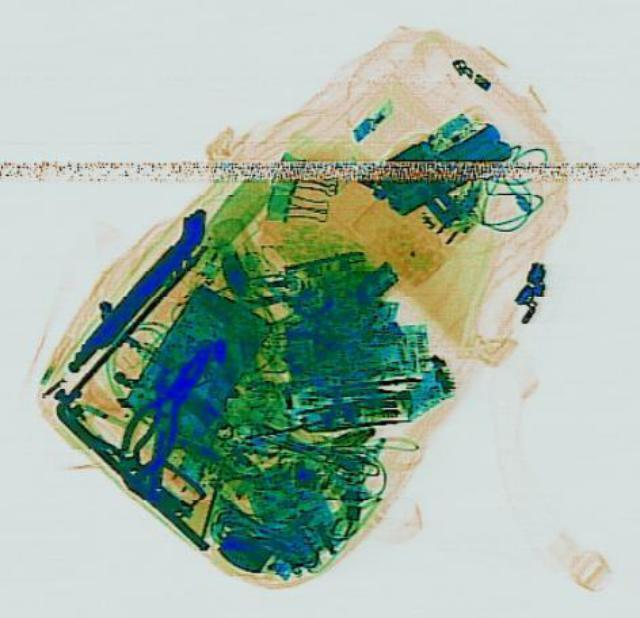Pliers: (105, 335, 227, 476)
